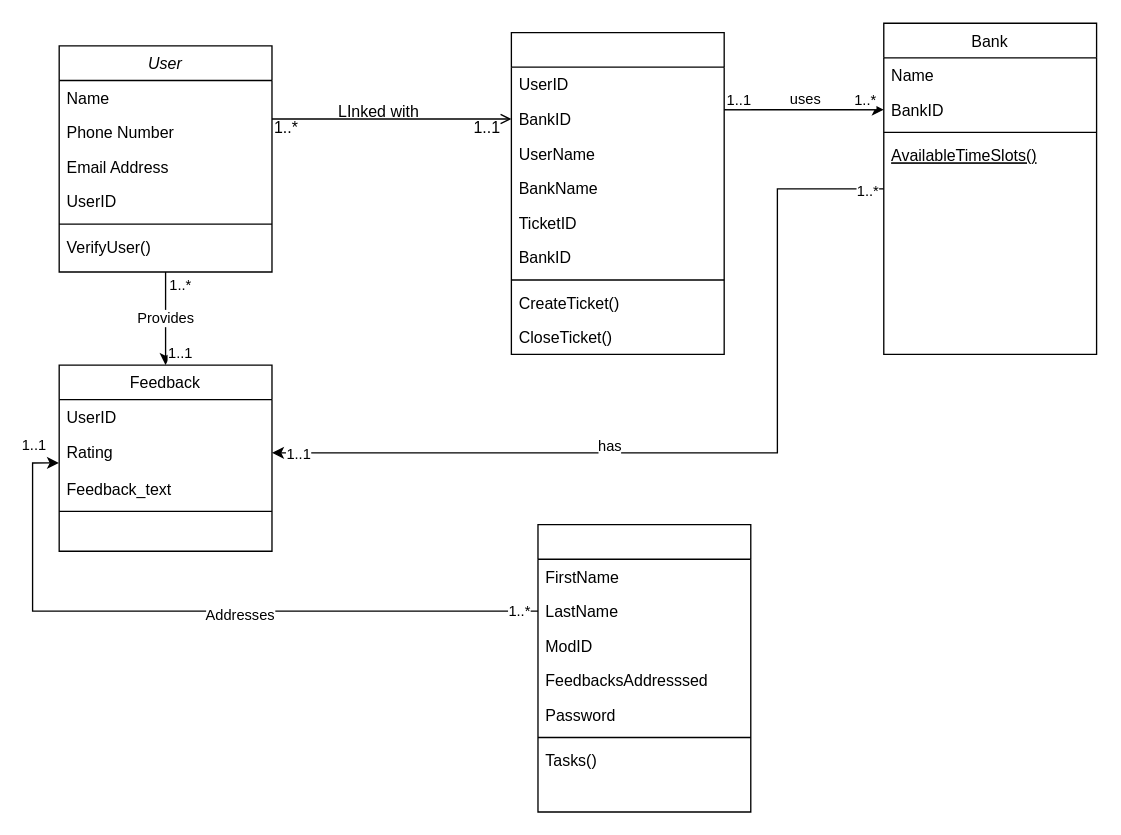
Some shapes in this 1121 by 835 pixel diagram are drawn without their labels. Each missing label, with the box of its shape:
Moderator: (537, 523, 751, 812)
Ticketing: (510, 31, 724, 354)
